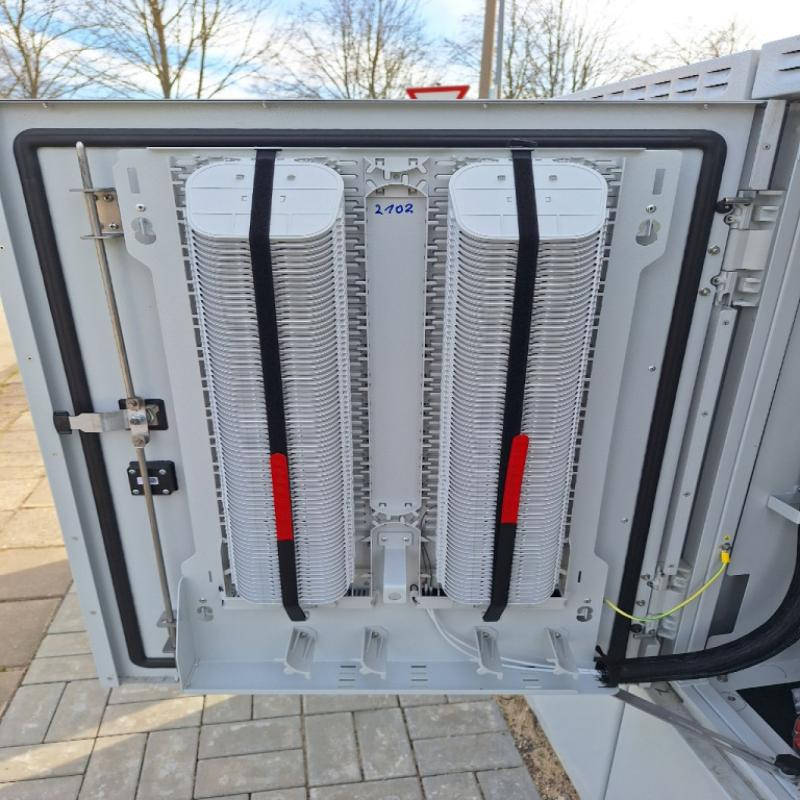NT-Gehause: (4, 46, 800, 800)
Spleiskassetten: (431, 155, 632, 630), (169, 151, 376, 612)
